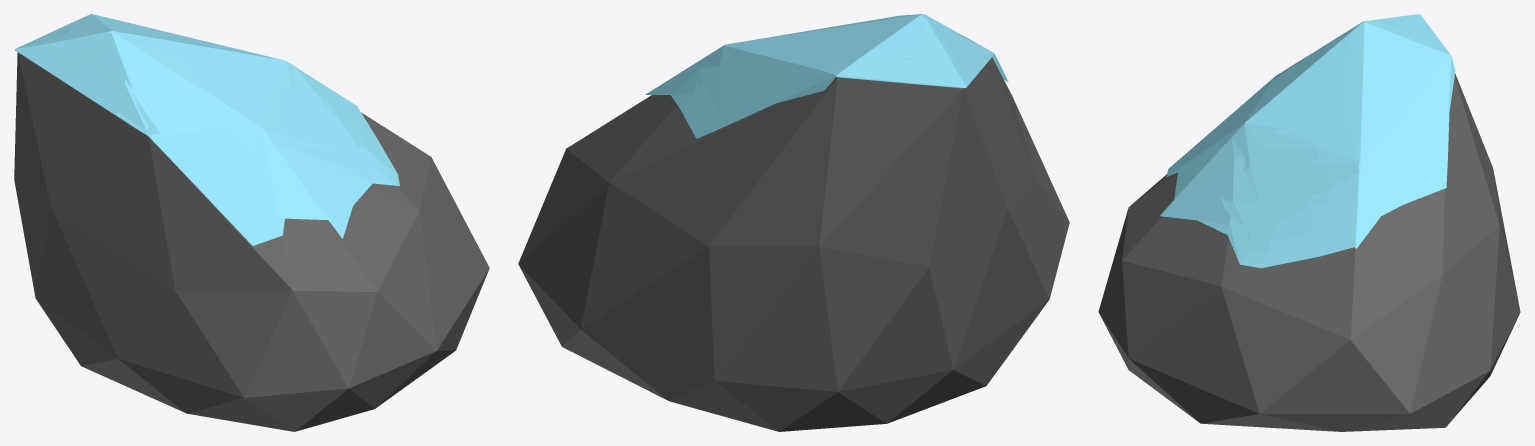
File: Rock_1.fbx
3 views of the same model, side by side, from view 1: azimuth 30°, elevation 25°; view 2: azimuth 150°, elevation 25°; view 3: azimuth 270°, elevation 25° (orthographic). The views are drawn at different scales.
Visible parts, largest first — view 1: Rock_1, Snow_1; view 2: Rock_1, Snow_1; view 3: Rock_1, Snow_1.
Part boxes in pixels (left/top/right/bottom): Rock_1: left=14, top=52, right=489, bottom=431; Snow_1: left=15, top=14, right=399, bottom=245; Rock_1: left=518, top=57, right=1069, bottom=431; Snow_1: left=645, top=14, right=1008, bottom=138; Rock_1: left=1098, top=73, right=1520, bottom=431; Snow_1: left=1160, top=14, right=1455, bottom=268.
Bounding box in the file's own units: 413 × 340 × 426.
